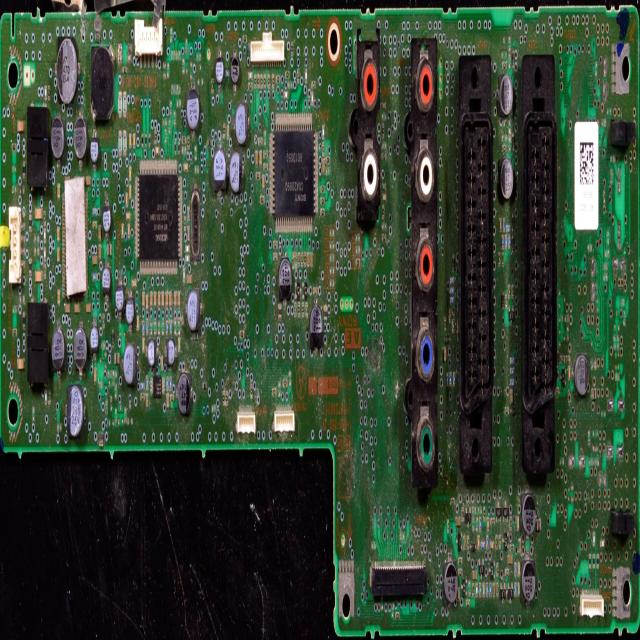Capacitor Jumper: (58, 42, 77, 103), (572, 351, 592, 400), (522, 562, 541, 611), (186, 88, 205, 133), (277, 258, 293, 306), (524, 493, 538, 546), (68, 388, 84, 432), (74, 324, 88, 373), (122, 340, 138, 381), (188, 286, 202, 332), (52, 332, 66, 375), (212, 148, 227, 187), (309, 305, 323, 346), (50, 120, 64, 160), (177, 372, 190, 415), (499, 156, 513, 195), (231, 151, 243, 196), (90, 325, 104, 362), (500, 74, 512, 114), (74, 115, 86, 152), (446, 561, 456, 603), (238, 104, 247, 142), (101, 268, 112, 298), (91, 133, 100, 169), (114, 287, 124, 316), (102, 206, 111, 237), (127, 295, 136, 325), (216, 54, 224, 80), (167, 342, 176, 364), (148, 340, 155, 368)
Connector: (411, 34, 442, 480), (461, 50, 492, 484), (523, 51, 554, 466), (359, 32, 382, 244), (371, 564, 427, 600), (132, 11, 165, 66), (252, 31, 287, 69)
IC: (134, 153, 184, 281), (270, 117, 320, 226)
